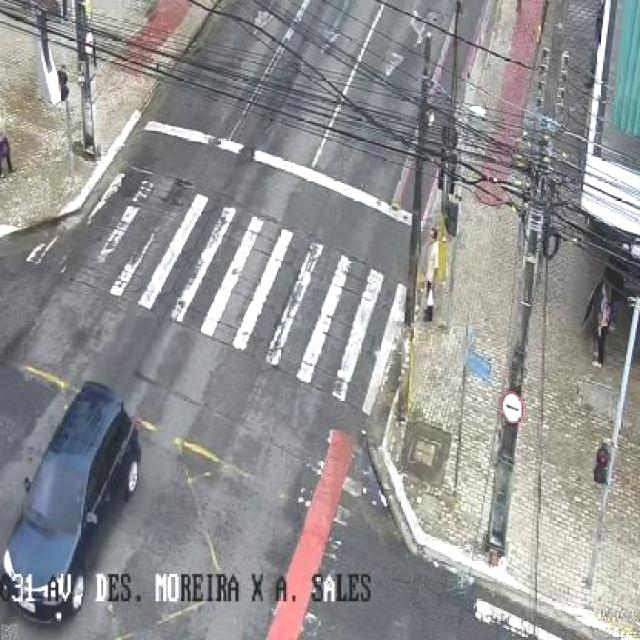Car: (0, 383, 141, 625)
